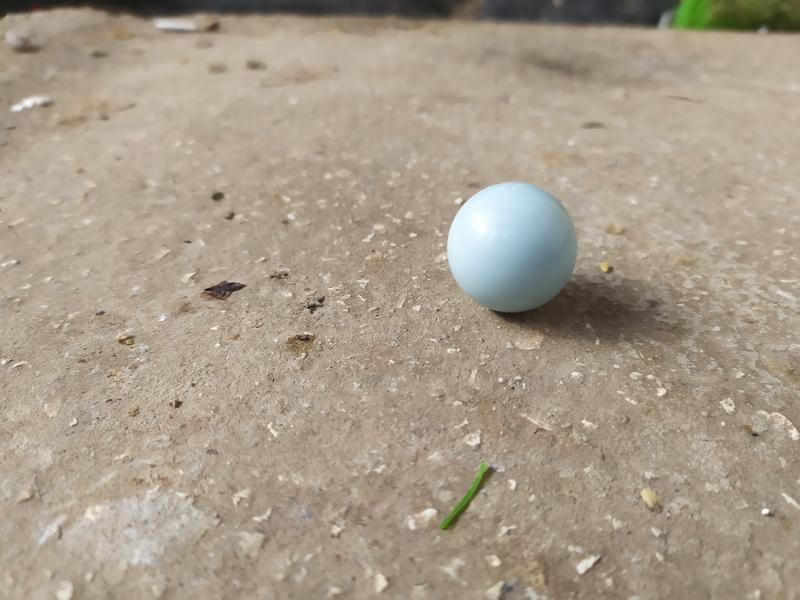Warning: (442, 176, 583, 318)
